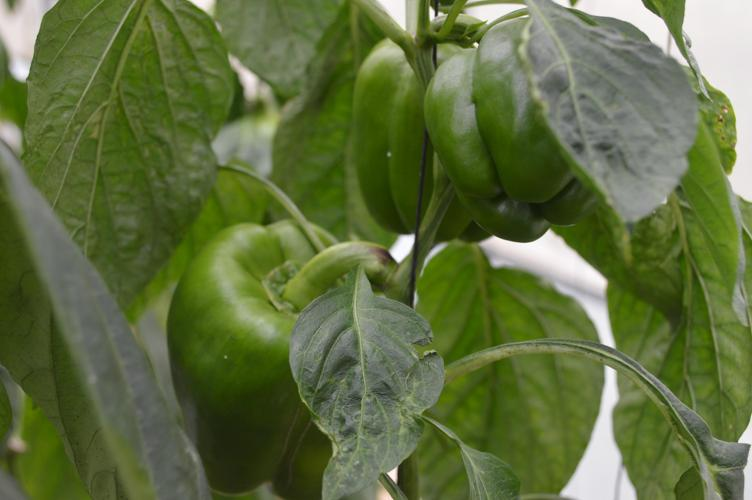BellPepper: (171, 221, 350, 479), (425, 19, 598, 241), (347, 35, 480, 244)
